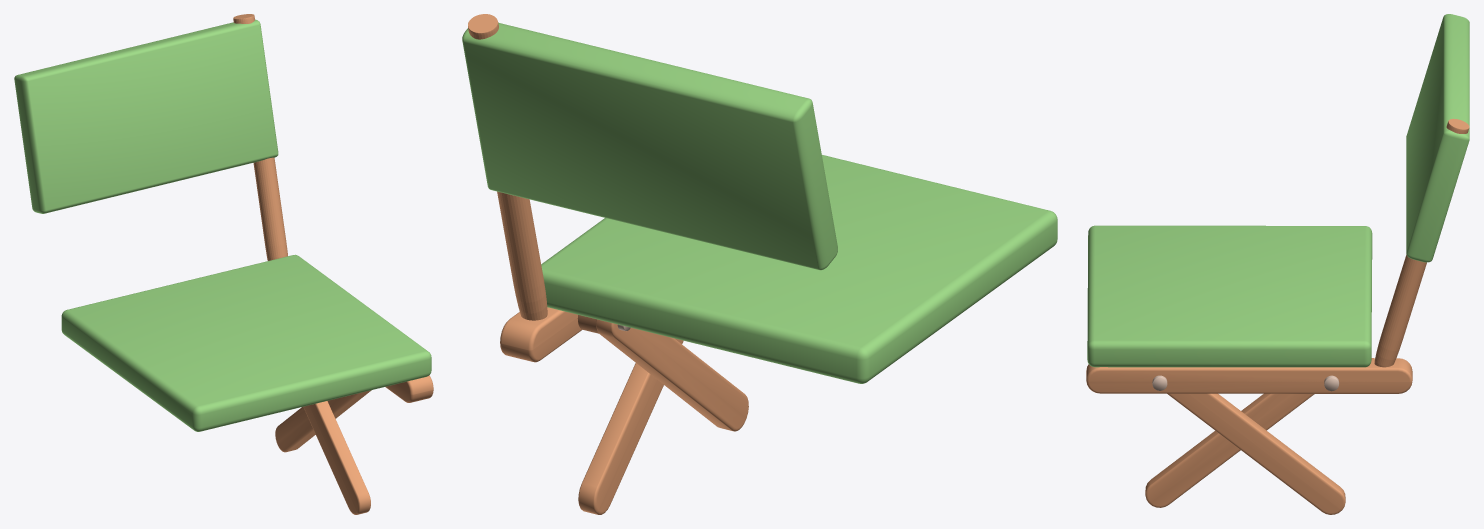
The model's file is Chair.glb.
3 views of the same model, side by side, from view 1: azimuth 30°, elevation 25°; view 2: azimuth 150°, elevation 25°; view 3: azimuth 270°, elevation 25° (orthographic). The views are drawn at different scales.
Visible parts, largest first — view 1: 椅面, 立方体, 椅腿2, 柱体.005, 椅腿1, 框架横; view 2: 椅面, 立方体, 椅腿2, 椅腿1, 柱体.005, 框架横; view 3: 椅面, 立方体, 框架横, 椅腿1, 椅腿2, 柱体.005.
Part boxes in pixels (x1,y1,x2,y2): 椅面: (61, 254, 431, 431); 立方体: (14, 19, 278, 213); 椅腿2: (303, 401, 370, 514); 柱体.005: (233, 14, 287, 260); 椅腿1: (275, 390, 371, 452); 框架横: (385, 375, 433, 402); 椅面: (541, 155, 1057, 383); 立方体: (462, 22, 837, 270); 椅腿2: (596, 319, 748, 431); 椅腿1: (578, 338, 683, 514); 柱体.005: (468, 14, 547, 320); 框架横: (500, 307, 582, 362); 椅面: (1087, 225, 1372, 367); 立方体: (1406, 14, 1469, 262); 框架横: (1086, 358, 1412, 393); 椅腿1: (1167, 393, 1345, 514); 椅腿2: (1145, 393, 1314, 507); 柱体.005: (1374, 118, 1469, 367).
Size of the model in its own units: 2.04 by 3.11 by 2.7.
